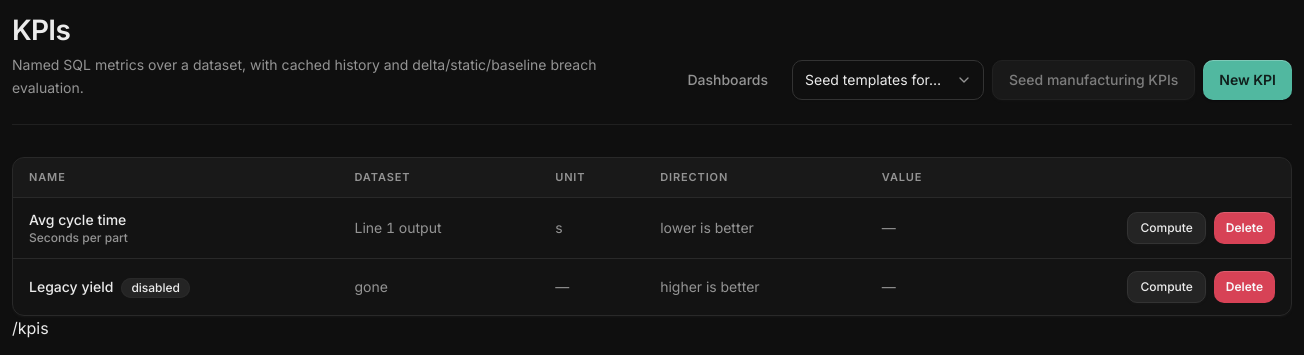
Test case: Kpis › deletes a KPI and refetches
This screenshot has width=1304, height=355.
Expected: the text "Legacy yield" is shown, [29,278,113,294]
Click the button "Delete" in the row of "Legacy yield".
click(1244, 287)  # box [1214,271,1275,303]
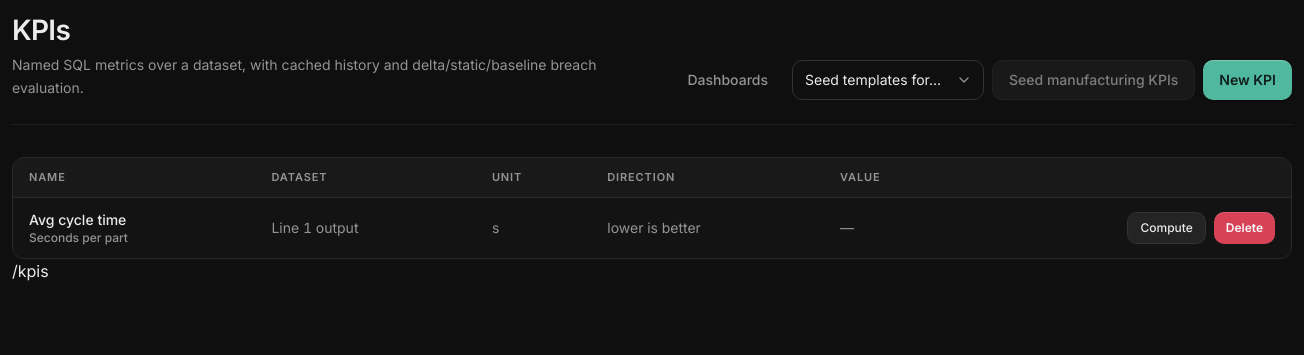
Expected: the text "Legacy yield" is gone
